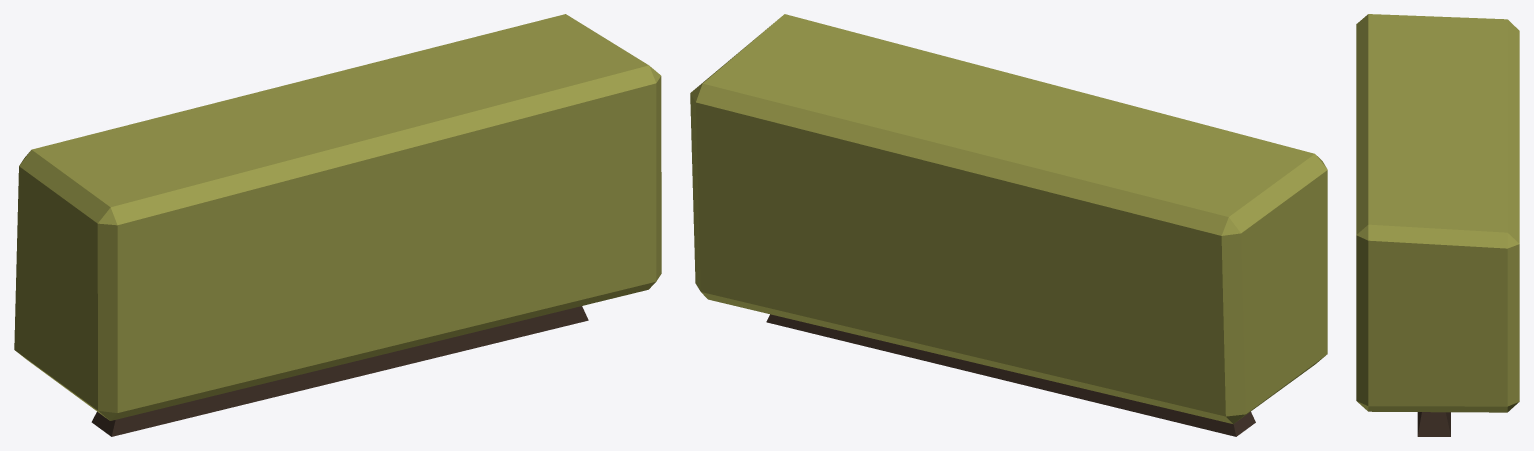
The model's file is Hedge1_b_LP_LOD0.FBX.
3 renders of one model, left to right at view 1: azimuth 30°, elevation 25°; view 2: azimuth 150°, elevation 25°; view 3: azimuth 270°, elevation 25°, orthographic. The views are drawn at different scales.
Visible parts, largest first — view 1: Hedge1_b_LP_LOD0; view 2: Hedge1_b_LP_LOD0; view 3: Hedge1_b_LP_LOD0.
Boxes of the visible parts, bbox=[...] form: Hedge1_b_LP_LOD0: bbox=[14, 14, 661, 436]; Hedge1_b_LP_LOD0: bbox=[690, 14, 1327, 436]; Hedge1_b_LP_LOD0: bbox=[1356, 14, 1519, 436].
Size of the model in its own units: 3.97 by 1.81 by 1.19.
